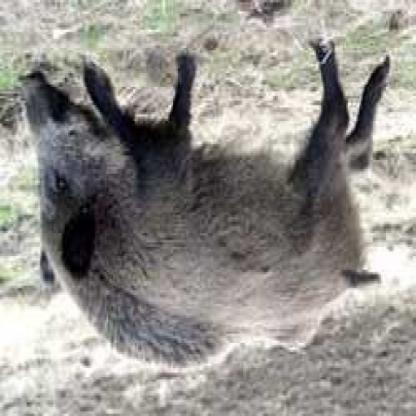boar: (11, 29, 402, 387)
